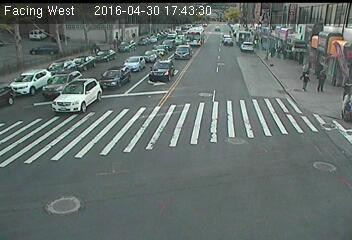neg: (93, 136, 127, 181), (198, 48, 227, 88), (37, 79, 66, 118), (54, 181, 82, 218), (234, 136, 257, 167), (119, 34, 142, 64), (201, 113, 223, 143), (307, 163, 326, 188), (162, 51, 179, 74), (101, 76, 118, 98), (44, 37, 54, 50)
pos: (317, 66, 335, 91), (296, 69, 313, 91)
